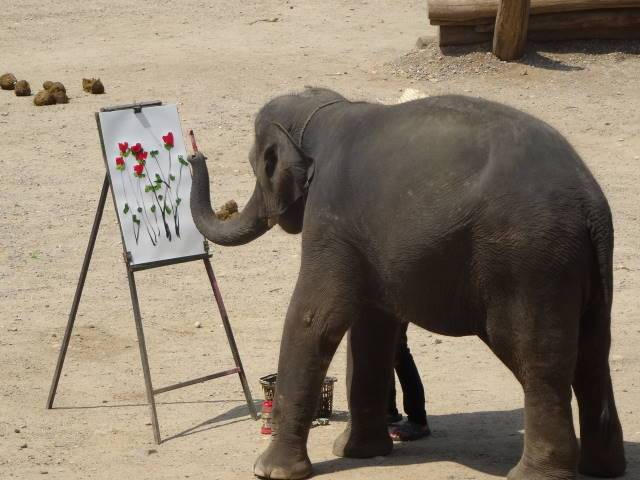elephant: (175, 79, 637, 479)
